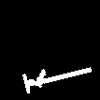double_crochet: (23, 67, 90, 92)
